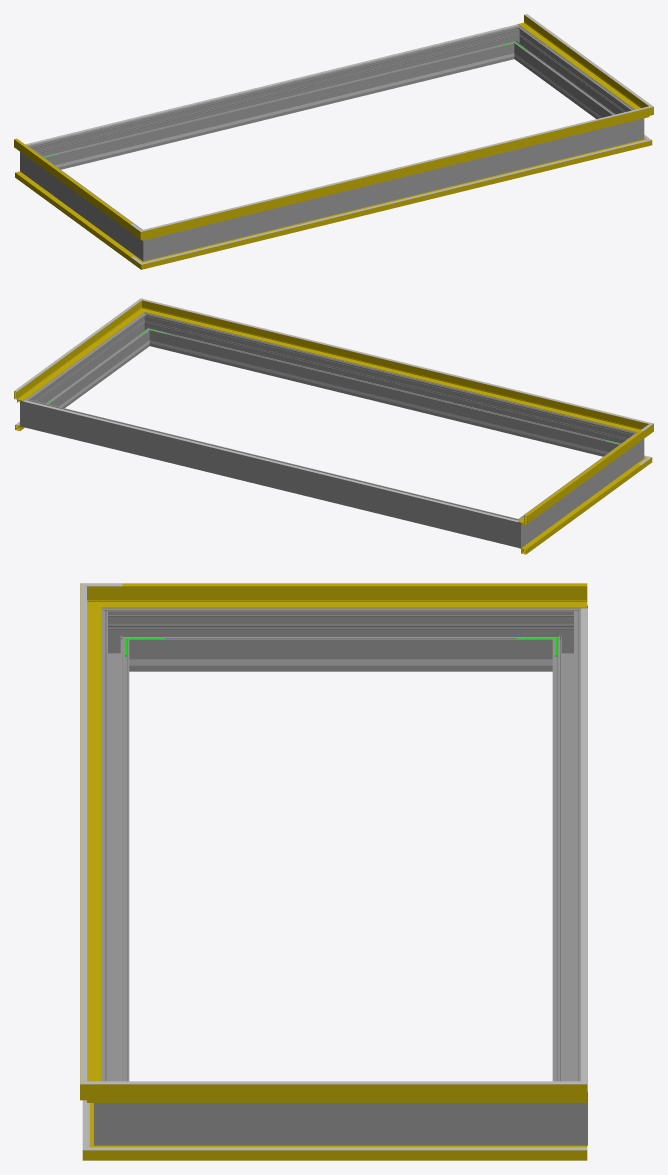
The picture shows the model from 3 angles, top to bottom: view 1: azimuth 30°, elevation 25°; view 2: azimuth 150°, elevation 25°; view 3: azimuth 270°, elevation 25°; orthographic projection. The views are drawn at different scales.
Parts seen in each view (by area): view 1: 3DGeom-278, 3DGeom-300, 3DGeom-56, 3DGeom-11, 3DGeom-299, 3DGeom-270, 3DGeom-58, 3DGeom-246, 3DGeom-222, 3DGeom-66, 3DGeom-20, 3DGeom-50 (+7 smaller); view 2: 3DGeom-300, 3DGeom-278, 3DGeom-56, 3DGeom-299, 3DGeom-270, 3DGeom-58, 3DGeom-241, 3DGeom-222, 3DGeom-66, 3DGeom-50, 3DGeom-6, 3DGeom-280 (+5 smaller); view 3: 3DGeom-270, 3DGeom-299, 3DGeom-278, 3DGeom-300, 3DGeom-50, 3DGeom-58, 3DGeom-56, 3DGeom-16, 3DGeom-222, 3DGeom-66, 3DGeom-234, 3DGeom-286 (+8 smaller).
Part boxes in pixels (left/top/right/bottom): 3DGeom-278: left=40, top=29, right=511, bottom=169; 3DGeom-300: left=161, top=123, right=625, bottom=256; 3DGeom-56: left=157, top=111, right=635, bottom=236; 3DGeom-11: left=157, top=142, right=633, bottom=265; 3DGeom-299: left=516, top=32, right=630, bottom=118; 3DGeom-270: left=30, top=152, right=138, bottom=253; 3DGeom-58: left=518, top=15, right=640, bottom=108; 3DGeom-246: left=61, top=57, right=496, bottom=166; 3DGeom-222: left=25, top=24, right=519, bottom=145; 3DGeom-66: left=158, top=110, right=634, bottom=227; 3DGeom-20: left=158, top=143, right=633, bottom=260; 3DGeom-50: left=14, top=139, right=130, bottom=231; 3DGeom-300: left=153, top=316, right=624, bottom=456; 3DGeom-278: left=38, top=403, right=505, bottom=543; 3DGeom-56: left=154, top=304, right=633, bottom=430; 3DGeom-299: left=33, top=319, right=147, bottom=408; 3DGeom-270: left=525, top=439, right=633, bottom=540; 3DGeom-58: left=14, top=307, right=138, bottom=402; 3DGeom-241: left=167, top=344, right=602, bottom=453; 3DGeom-222: left=23, top=400, right=518, bottom=521; 3DGeom-66: left=158, top=303, right=634, bottom=420; 3DGeom-50: left=518, top=431, right=643, bottom=526; 3DGeom-6: left=520, top=464, right=641, bottom=554; 3DGeom-280: left=502, top=514, right=531, bottom=548; 3DGeom-270: left=136, top=608, right=545, bottom=671; 3DGeom-299: left=136, top=1103, right=545, bottom=1145; 3DGeom-278: left=552, top=623, right=580, bottom=1081; 3DGeom-300: left=101, top=623, right=129, bottom=1081; 3DGeom-50: left=122, top=583, right=587, bottom=608; 3DGeom-58: left=122, top=1084, right=587, bottom=1102; 3DGeom-56: left=80, top=601, right=101, bottom=1081; 3DGeom-16: left=125, top=1145, right=587, bottom=1160; 3DGeom-222: left=581, top=608, right=587, bottom=1091; 3DGeom-66: left=80, top=601, right=86, bottom=1066; 3DGeom-234: left=170, top=659, right=511, bottom=665; 3DGeom-286: left=545, top=1076, right=587, bottom=1145.
Bounding box in the file's own units: 4.27 × 0.307 × 1.83.
